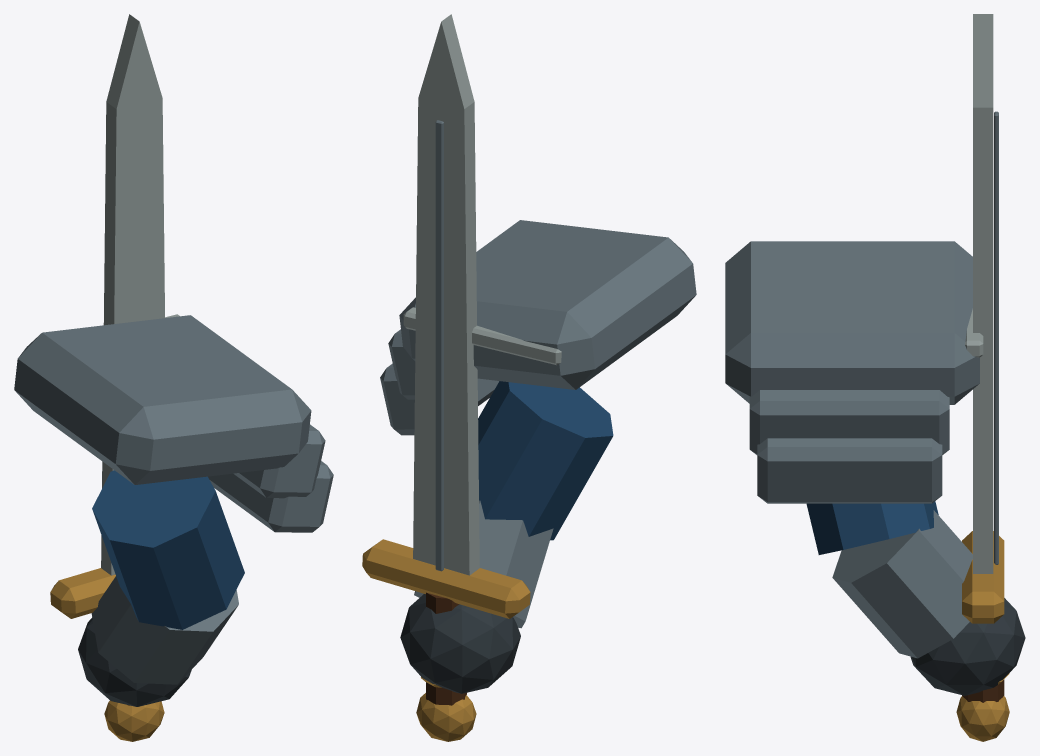
Rendered from ArmRight.glb.
The picture shows the model from 3 angles, left to right: view 1: azimuth 30°, elevation 25°; view 2: azimuth 150°, elevation 25°; view 3: azimuth 270°, elevation 25°; orthographic projection.
Parts seen in each view (by area): view 1: Sculpture; view 2: Sculpture; view 3: Sculpture.
Boxes of the visible parts, box(x1,y1,x2,y2) form: Sculpture: box(14, 14, 333, 741); Sculpture: box(362, 14, 696, 741); Sculpture: box(725, 14, 1025, 741).
Size of the model in its own units: 0.4327 by 1.32 by 0.495.
